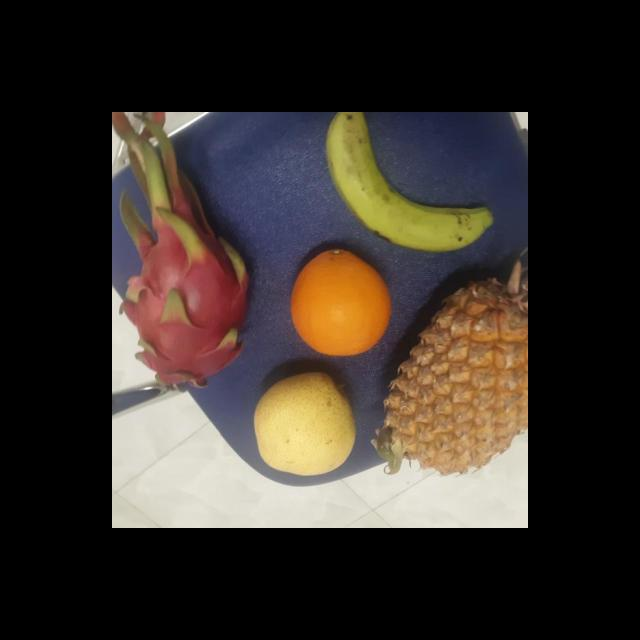banana: (322, 112, 490, 252)
orange: (284, 249, 391, 359)
pear: (250, 374, 358, 478)
pineapple: (382, 274, 528, 478)
pitaya: (123, 223, 250, 388)
